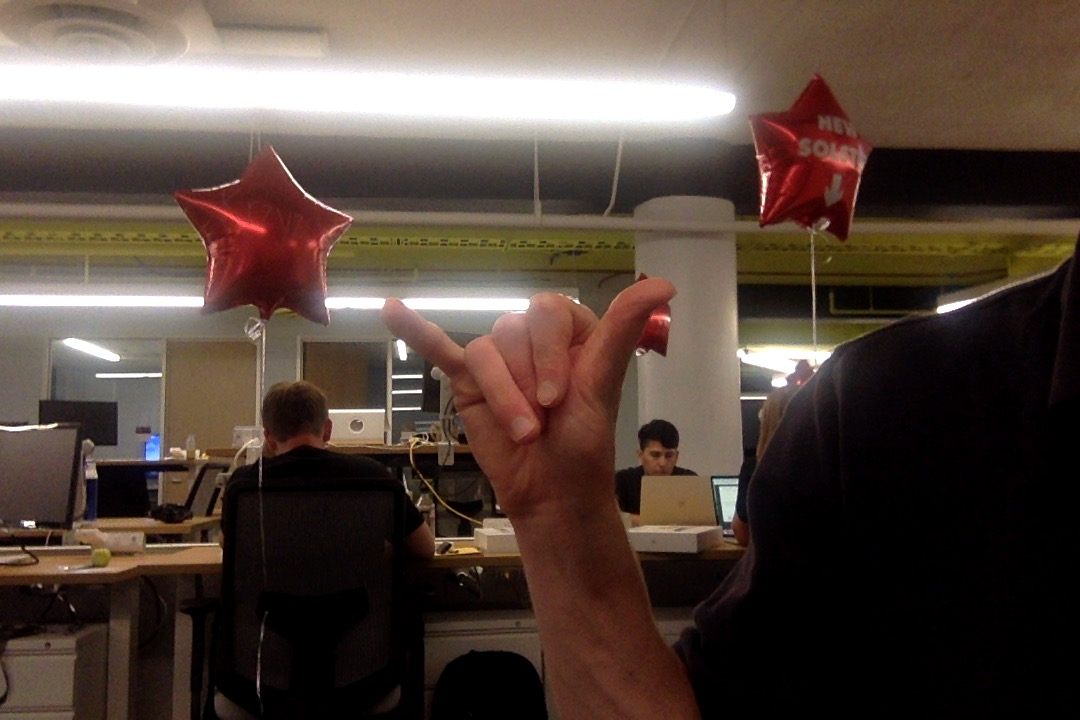y: (371, 275, 684, 507)
